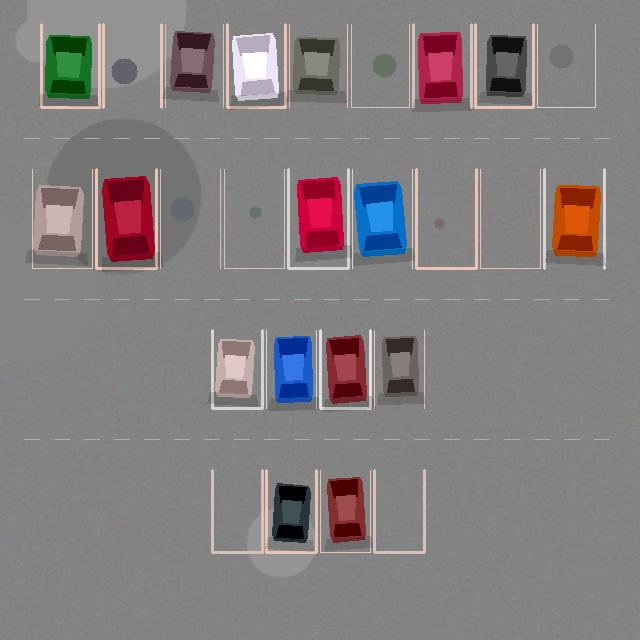space-empty: (160, 169, 220, 268), (224, 169, 284, 268), (416, 169, 476, 268), (480, 169, 540, 268), (103, 24, 161, 107), (351, 24, 409, 107), (537, 24, 595, 107), (212, 470, 262, 552), (374, 470, 424, 552)
space-occupied: (32, 169, 92, 268), (96, 169, 156, 268), (288, 169, 348, 268), (352, 169, 412, 268), (544, 169, 604, 268), (41, 24, 99, 107), (165, 24, 223, 107), (227, 24, 285, 107), (289, 24, 347, 107), (413, 24, 471, 107), (475, 24, 533, 107), (266, 470, 316, 552), (320, 470, 370, 552), (212, 330, 262, 408), (266, 330, 316, 408), (320, 330, 370, 408), (374, 330, 424, 408)
